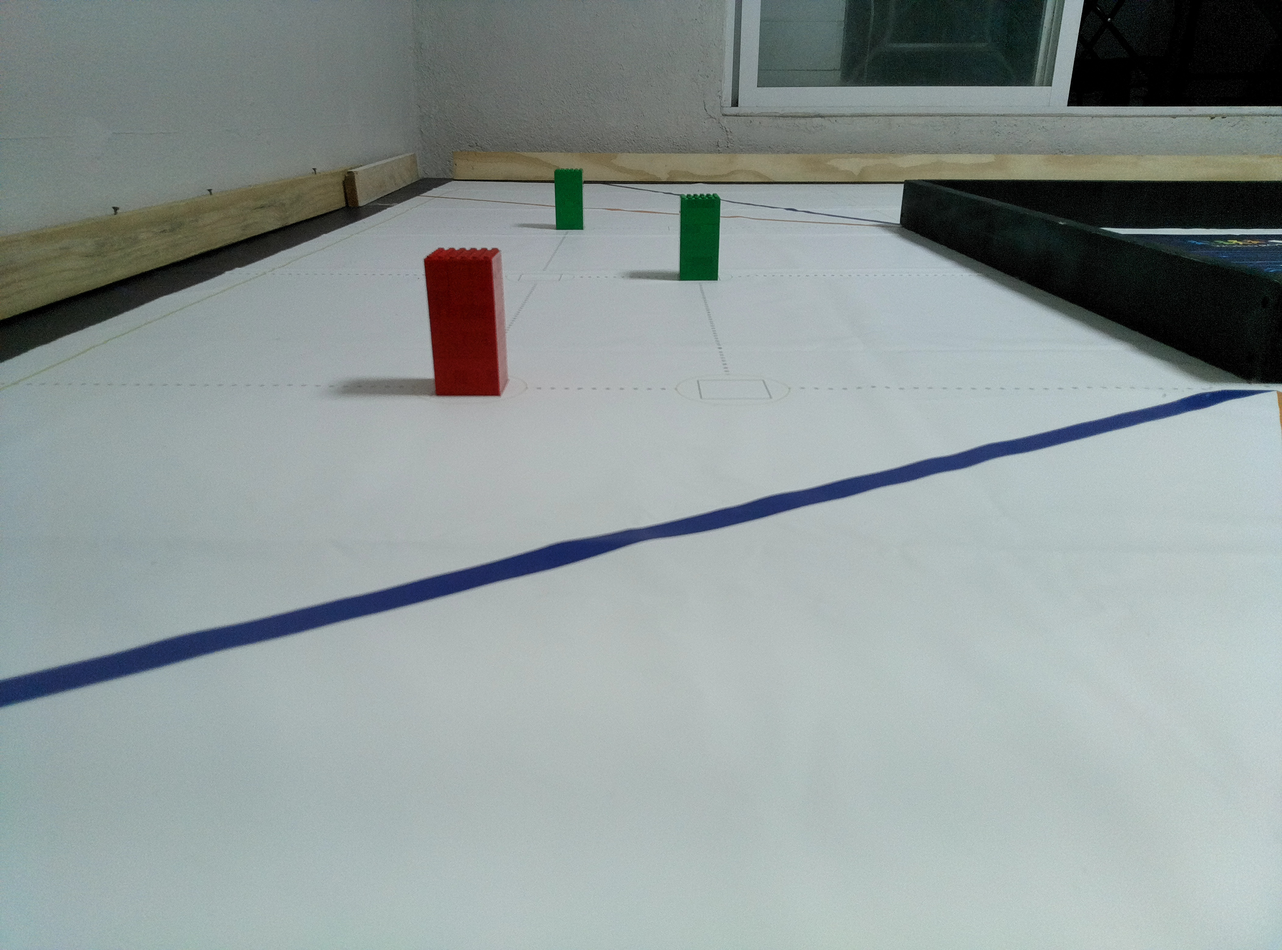greenbox: (678, 194, 721, 281), (554, 168, 585, 230)
redbox: (422, 246, 509, 397)
